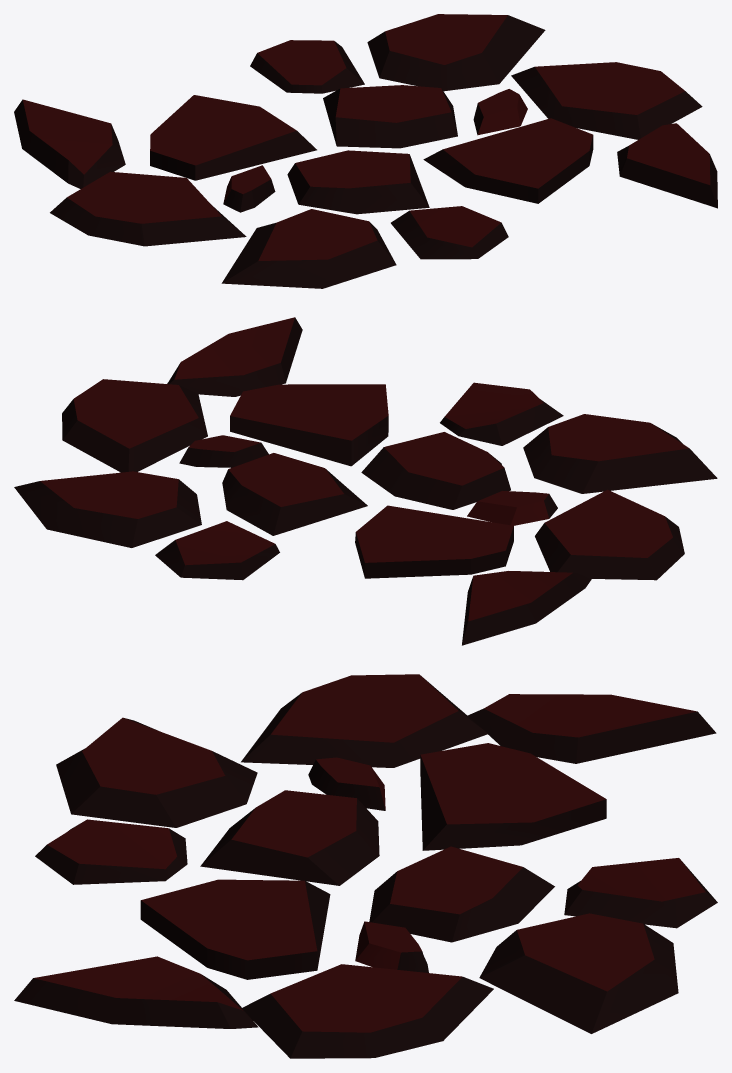
Rendered from StoneFloor.fbx.
3 renders of one model, top to bottom at view 1: azimuth 30°, elevation 25°; view 2: azimuth 150°, elevation 25°; view 3: azimuth 270°, elevation 25°, orthographic. The views are drawn at different scales.
Visible parts, largest first — view 1: StoneFloor; view 2: StoneFloor; view 3: StoneFloor.
Part boxes in pixels (left/top/right/bottom): StoneFloor: left=14, top=14, right=717, bottom=288; StoneFloor: left=14, top=317, right=717, bottom=645; StoneFloor: left=14, top=674, right=717, bottom=1058.
Bounding box in the file's own units: 299 × 8.65 × 239.
